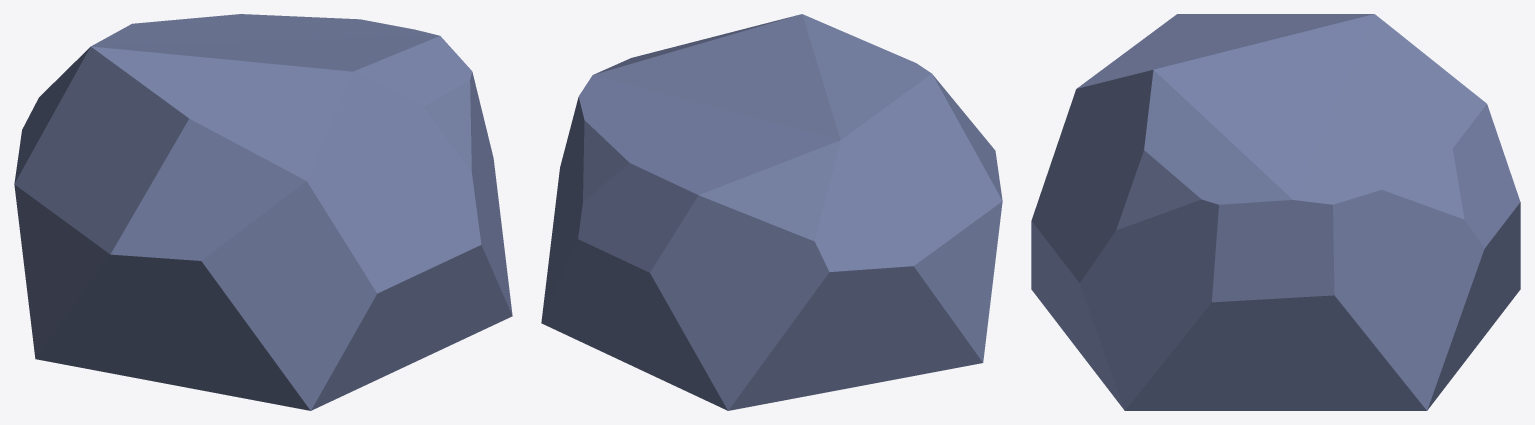
File: Rock Granit 01.fbx
The picture shows the model from 3 angles, left to right: view 1: azimuth 30°, elevation 25°; view 2: azimuth 150°, elevation 25°; view 3: azimuth 270°, elevation 25°; orthographic projection. The views are drawn at different scales.
Parts seen in each view (by area): view 1: Rock Granit 01; view 2: Rock Granit 01; view 3: Rock Granit 01.
Part boxes in pixels (x1,y1,x2,y2): Rock Granit 01: [14, 14, 512, 410]; Rock Granit 01: [541, 14, 1002, 410]; Rock Granit 01: [1031, 14, 1520, 410].
Bounding box in the file's own units: 172 × 104 × 170.
